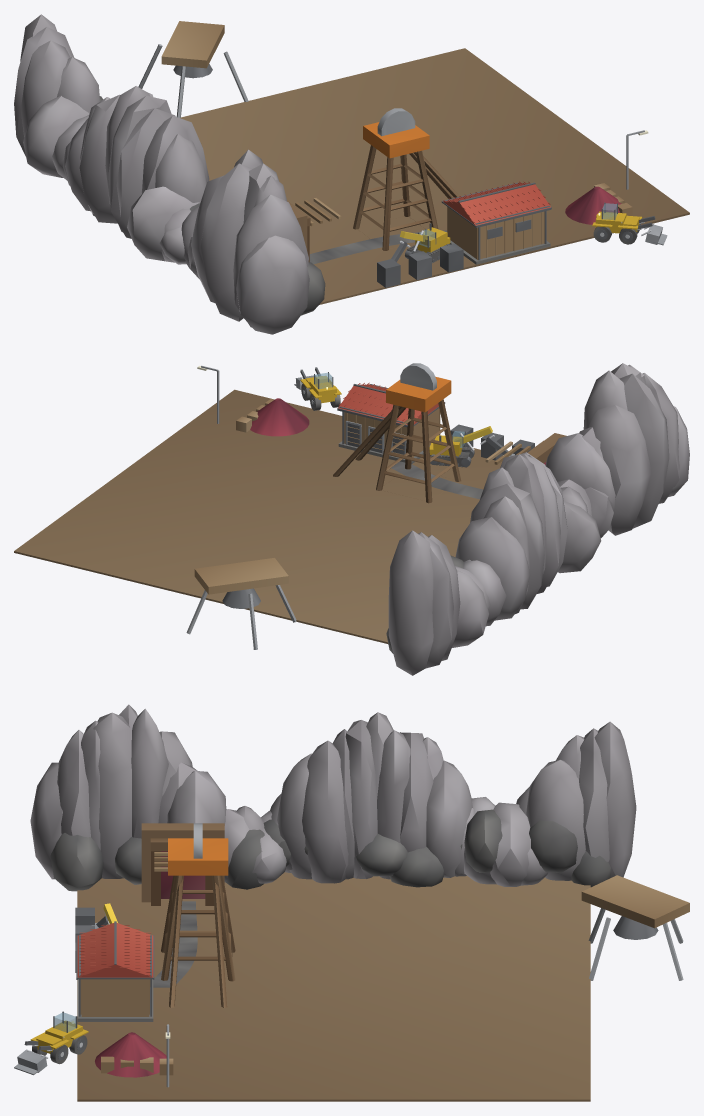
File: Mine_P1.fbx
3 renders of one model, top to bottom at view 1: azimuth 30°, elevation 25°; view 2: azimuth 150°, elevation 25°; view 3: azimuth 270°, elevation 25°, orthographic. The views are drawn at different scales.
Visible parts, largest first — view 1: Mine.Apron, Mine.Cliff, Mine.Winder, Mine.Headframe, Mine.LoadGantry, Mine.Clutter, Mine.Loader, Mine.Spoil0, Mine.Excav, Mine.Track0, Mine.Adit0; view 2: Mine.Apron, Mine.Cliff, Mine.Headframe, Mine.Winder, Mine.LoadGantry, Mine.Spoil0, Mine.Excav, Mine.Loader, Mine.Clutter, Mine.Track0, Mine.Adit0; view 3: Mine.Apron, Mine.Cliff, Mine.Winder, Mine.Headframe, Mine.LoadGantry, Mine.Adit0, Mine.Loader, Mine.Spoil0, Mine.Clutter, Mine.Track0.
Boxes of the visible parts, x1=… form: Mine.Apron: x1=180, y1=48, x2=689, y2=304; Mine.Cliff: x1=14, y1=14, x2=325, y2=334; Mine.Winder: x1=441, y1=181, x2=551, y2=264; Mine.Headframe: x1=353, y1=108, x2=459, y2=250; Mine.LoadGantry: x1=138, y1=21, x2=248, y2=117; Mine.Clutter: x1=377, y1=183, x2=632, y2=287; Mine.Loader: x1=592, y1=202, x2=667, y2=245; Mine.Spoil0: x1=565, y1=186, x2=621, y2=224; Mine.Excav: x1=391, y1=223, x2=450, y2=263; Mine.Track0: x1=309, y1=230, x2=446, y2=264; Mine.Adit0: x1=287, y1=198, x2=341, y2=262; Mine.Apron: x1=14, y1=389, x2=502, y2=643; Mine.Cliff: x1=386, y1=363, x2=689, y2=675; Mine.Headframe: x1=333, y1=363, x2=461, y2=503; Mine.Winder: x1=337, y1=382, x2=445, y2=464; Mine.LoadGantry: x1=186, y1=558, x2=296, y2=649; Mine.Spoil0: x1=250, y1=398, x2=309, y2=436; Mine.Excav: x1=429, y1=426, x2=514, y2=467; Mine.Loader: x1=294, y1=367, x2=341, y2=410; Mine.Clutter: x1=236, y1=399, x2=534, y2=460; Mine.Track0: x1=391, y1=461, x2=482, y2=499; Mine.Adit0: x1=485, y1=433, x2=566, y2=464; Mine.Apron: x1=77, y1=872, x2=590, y2=1101; Mine.Cliff: x1=30, y1=704, x2=636, y2=891; Mine.Winder: x1=76, y1=921, x2=154, y2=1021; Mine.Headframe: x1=161, y1=823, x2=235, y2=1007; Mine.LoadGantry: x1=581, y1=875, x2=689, y2=980; Mine.Adit0: x1=141, y1=823, x2=224, y2=905; Mine.Loader: x1=14, y1=1011, x2=88, y2=1075; Mine.Spoil0: x1=95, y1=1032, x2=166, y2=1077; Mine.Clutter: x1=75, y1=907, x2=173, y2=1075; Mine.Track0: x1=153, y1=901, x2=197, y2=987.
Bounding box in the file's own units: 8113 × 2719 × 8959.
